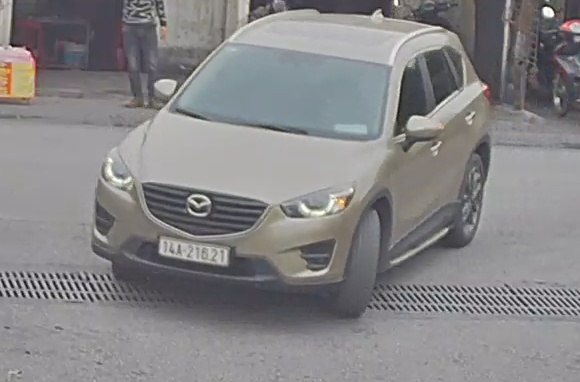vehicle plate: (152, 232, 234, 272)
